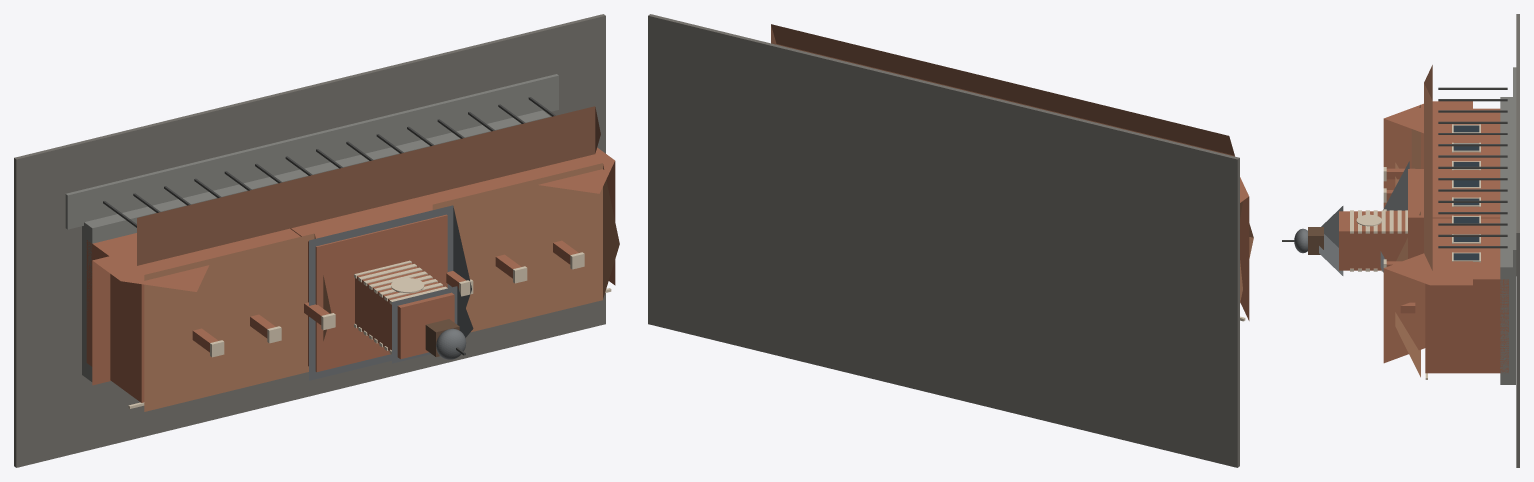
The model's file is east_london_station_reference_exact_style.glb.
The picture shows the model from 3 angles, left to right: view 1: azimuth 30°, elevation 25°; view 2: azimuth 150°, elevation 25°; view 3: azimuth 270°, elevation 25°; orthographic projection. The views are drawn at different scales.
Visible parts, largest first — view 1: site, platform canopy, left wing roof, right wing roof, platform, central hall, main building, foundation, end gable, clock tower shaft, central roof, end gable_1 (+3 smaller); view 2: site, platform canopy, end gable; view 3: main building, end gable_1, central hall, foundation, end gable, clock tower shaft, site, platform canopy, platform, tower roof, central roof, right wing roof (+4 smaller).
Part boxes in pixels (<box>): site: <box>14,14,605,467</box>; platform canopy: <box>137,106,600,265</box>; left wing roof: <box>144,233,331,411</box>; right wing roof: <box>432,163,619,332</box>; platform: <box>65,74,558,229</box>; central hall: <box>290,196,447,372</box>; main building: <box>86,174,522,402</box>; foundation: <box>82,110,550,381</box>; end gable: <box>92,249,211,385</box>; clock tower shaft: <box>355,263,454,359</box>; central roof: <box>309,205,471,380</box>; end gable_1: <box>512,147,615,285</box>; site: <box>648,14,1239,467</box>; platform canopy: <box>771,24,1234,156</box>; end gable: <box>1240,177,1249,320</box>; main building: <box>1425,108,1508,373</box>; end gable_1: <box>1383,251,1472,363</box>; central hall: <box>1408,169,1500,258</box>; foundation: <box>1500,97,1515,384</box>; end gable: <box>1383,101,1472,207</box>; clock tower shaft: <box>1339,211,1407,270</box>; site: <box>1516,14,1519,467</box>; platform canopy: <box>1424,65,1432,270</box>; platform: <box>1513,67,1516,276</box>; tower roof: <box>1319,206,1343,275</box>; central roof: <box>1380,161,1409,272</box>; right wing roof: <box>1395,211,1420,377</box>.
Bounding box in the file's own units: 36 × 18 × 16.5.
